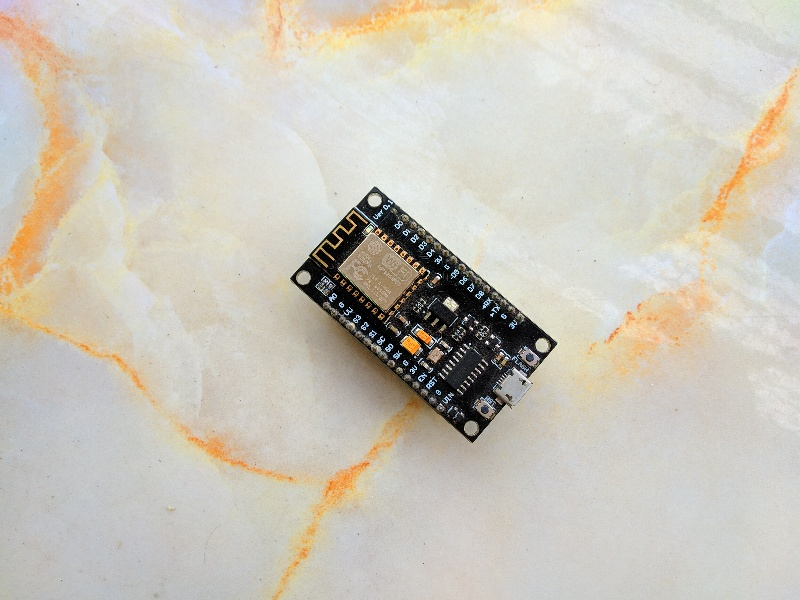NodeMCU: (284, 179, 566, 451)
